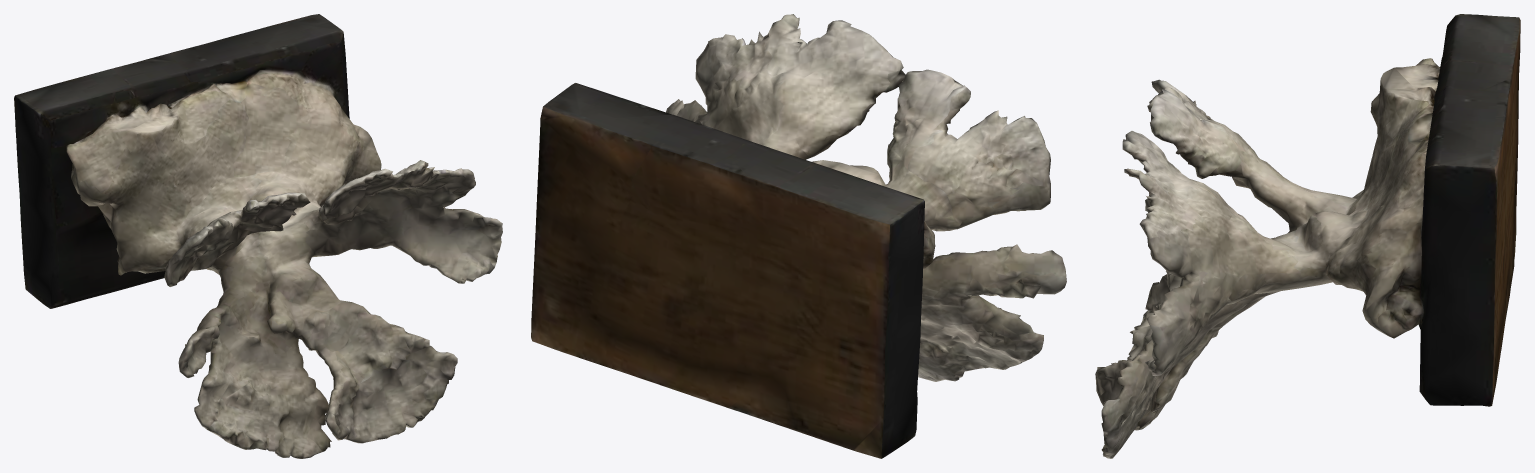
The model's file is palmata.glb.
The picture shows the model from 3 angles, left to right: view 1: azimuth 30°, elevation 25°; view 2: azimuth 150°, elevation 25°; view 3: azimuth 270°, elevation 25°; orthographic projection. The views are drawn at different scales.
Size of the model in its own units: 0.3149 by 0.2631 by 0.2886.
1 material, 1 textured.
